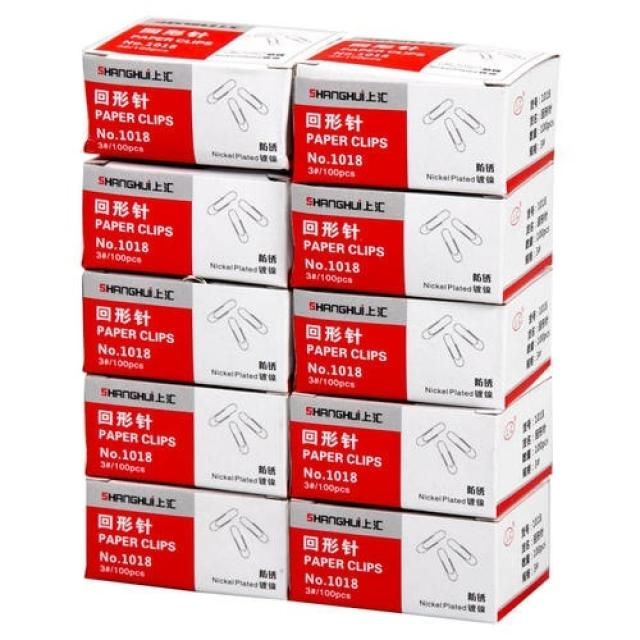box: (288, 33, 560, 196), (79, 17, 356, 169), (288, 378, 553, 520), (288, 165, 554, 306), (288, 271, 552, 410), (286, 484, 549, 620), (79, 153, 291, 289), (78, 269, 292, 396), (84, 373, 288, 500), (84, 477, 287, 599)
